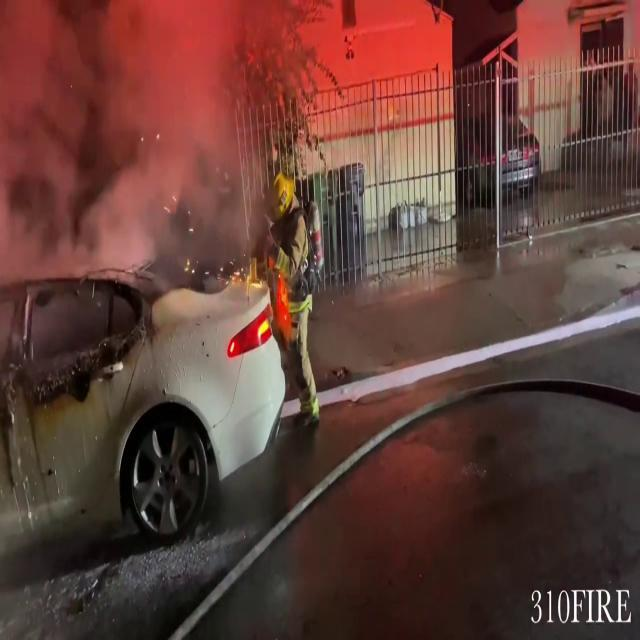Smoke: (0, 0, 262, 273)
